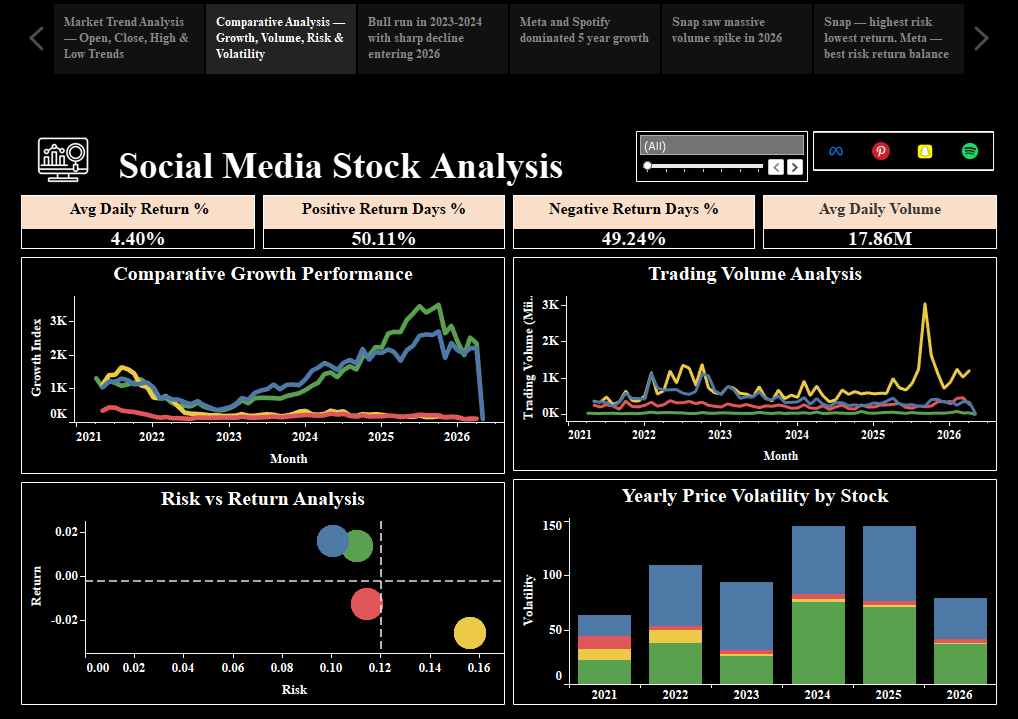

Layout of this report page (visuals, bound fields, positions):
{"tool":"tableau","page":{"name":"Dashboard 2","canvas":[1000,600],"ordinal":1},"visuals":[{"type":"image","param":"C:/Users/Milind/Downloads/images.png","box":[8,8,93,65.5]},{"type":"worksheet","title":"Dynamic Title Sheet","mark":"Text","box":[101,8,589,65.5]},{"type":"worksheet","title":"Company","mark":"Shape","cols":["Table Name"],"box":[804,13.7,181,40.3]},{"type":"filter","title":"Comparative Growth Performance","param":"[federated.1vn10pd0oxh1w3197r5cc1kmhlas].[yr:Date:ok]","box":[627,14,172,51]},{"type":"worksheet","title":" Avg Daily Return %","mark":"Text","box":[8,73.5,242,62.5]},{"type":"worksheet","title":"Positive Return Days %","mark":"Automatic","box":[250,73.5,250,62.5]},{"type":"worksheet","title":"Negative Return Days %","mark":"Automatic","box":[500,73.5,250,62.5]},{"type":"worksheet","title":"Avg Daily Volume","mark":"Automatic","box":[750,73.5,242,62.5]},{"type":"worksheet","title":"Comparative Growth Performance","mark":"Line","cols":["Date"],"box":[8,136,492,225.1]},{"type":"worksheet","title":"Trading Volume Analysis","mark":"Automatic","rows":["Calculation_437130638880751626"],"cols":["Date"],"box":[500,136,492,222.3]},{"type":"worksheet","title":"Yearly Price Volatility by Stock","mark":"Bar","rows":["Calculation_437130638937219107"],"cols":["Date"],"box":[500,358.3,492,233.7]},{"type":"worksheet","title":"Risk vs Return Analysis","mark":"Circle","box":[8,361.1,492,230.9]}]}

Visuals, with their boxes on the page's 1000x600 design canvas (x1, y1, x2, y2). These are canvas units, not pixel positions in the 1018x719 screenshot, which may show the page scaled, cropped or inside an application window:
image: [left=8, top=8, right=101, bottom=74]
"Dynamic Title Sheet" worksheet (Text marks): [left=101, top=8, right=690, bottom=74]
"Company" worksheet (Shape marks): [left=804, top=14, right=985, bottom=54]
"Comparative Growth Performance" filter: [left=627, top=14, right=799, bottom=65]
" Avg Daily Return %" worksheet (Text marks): [left=8, top=74, right=250, bottom=136]
"Positive Return Days %" worksheet: [left=250, top=74, right=500, bottom=136]
"Negative Return Days %" worksheet: [left=500, top=74, right=750, bottom=136]
"Avg Daily Volume" worksheet: [left=750, top=74, right=992, bottom=136]
"Comparative Growth Performance" worksheet (Line marks): [left=8, top=136, right=500, bottom=361]
"Trading Volume Analysis" worksheet: [left=500, top=136, right=992, bottom=358]
"Yearly Price Volatility by Stock" worksheet (Bar marks): [left=500, top=358, right=992, bottom=592]
"Risk vs Return Analysis" worksheet (Circle marks): [left=8, top=361, right=500, bottom=592]
